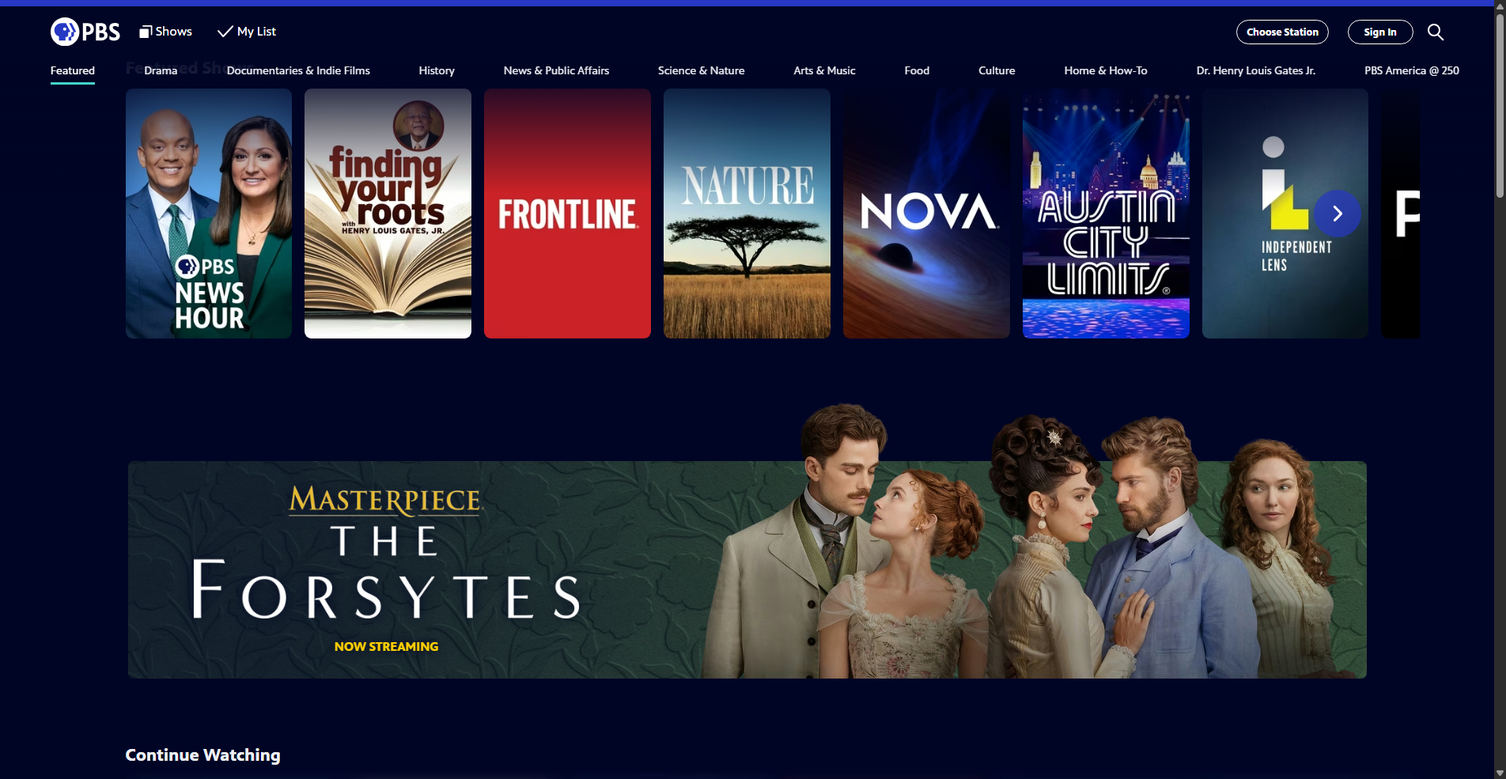button: (1227, 6, 1338, 57), (1394, 6, 1494, 57), (1237, 19, 1329, 44), (216, 130, 297, 158), (133, 190, 181, 237), (1313, 190, 1361, 237), (1348, 19, 1413, 44), (1406, 82, 1437, 111), (11, 57, 38, 84), (1456, 57, 1483, 84)
input: (960, 76, 1444, 117)
link: (75, 370, 1419, 681), (125, 88, 292, 339), (305, 88, 472, 339), (484, 88, 651, 339), (843, 88, 1010, 339), (1022, 88, 1189, 339), (1202, 88, 1369, 339), (664, 88, 830, 339), (1381, 88, 1506, 339), (51, 6, 130, 57), (217, 6, 276, 57), (227, 63, 370, 84), (139, 6, 192, 57), (1197, 63, 1316, 84), (504, 63, 609, 84), (1365, 63, 1459, 84), (659, 63, 745, 84), (1064, 63, 1147, 84), (794, 63, 855, 84), (51, 63, 95, 84), (419, 63, 455, 84), (979, 63, 1015, 84), (144, 63, 178, 84), (905, 63, 930, 84)
